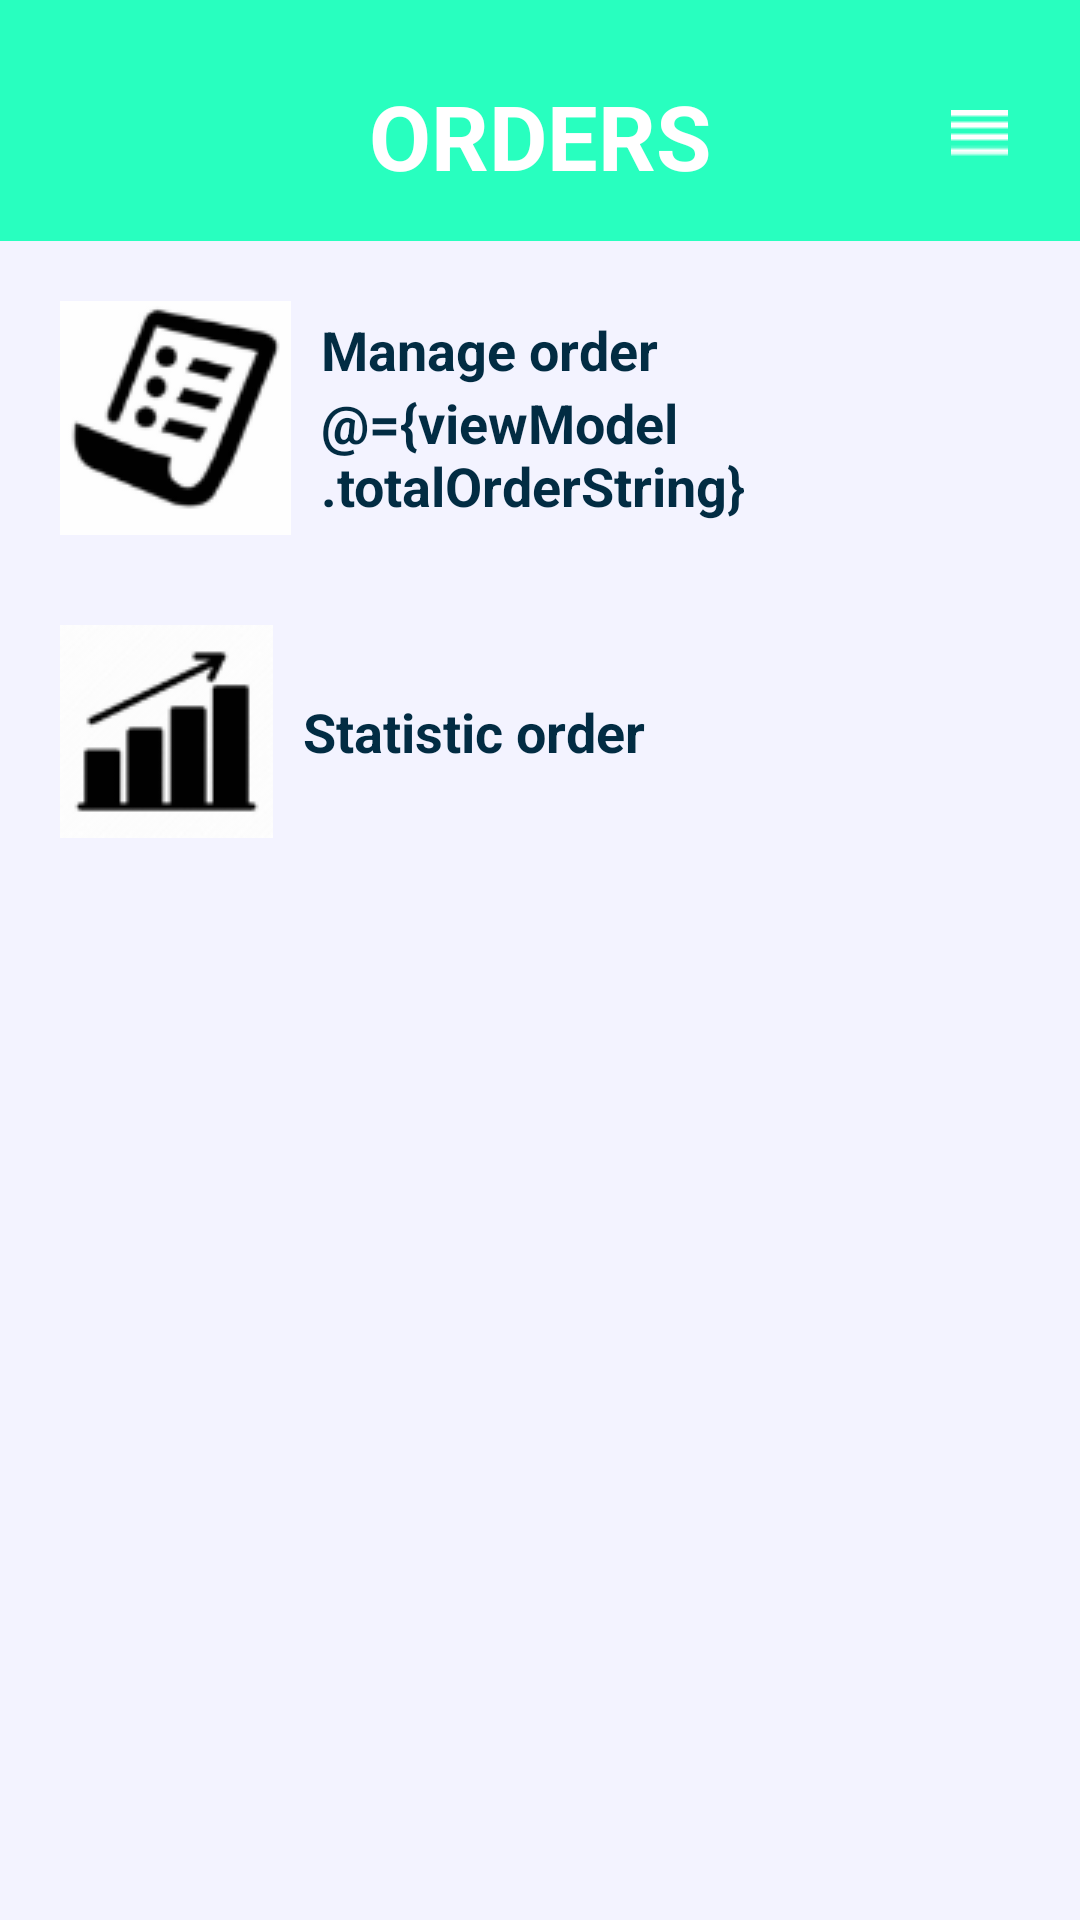

Where to tap for icons on this 1080 x 1920 app screen, as [x,y]:
menu: [979,133]
